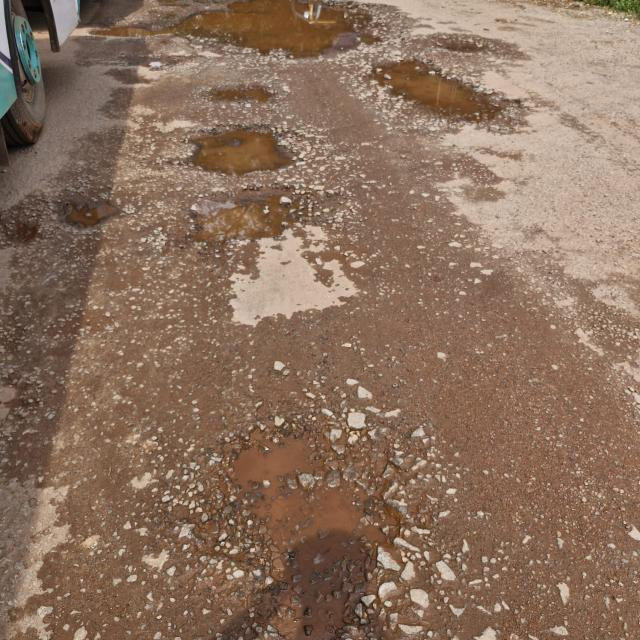pothole: (201, 409, 420, 640), (177, 197, 355, 327), (77, 8, 391, 63), (360, 55, 516, 135), (172, 117, 304, 183), (421, 22, 535, 66), (53, 177, 124, 237), (5, 193, 46, 268)
